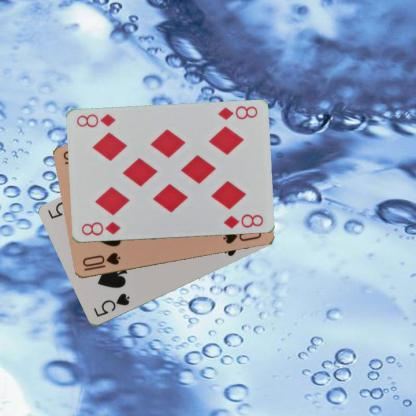10s: (80, 250, 122, 272)
5s: (91, 291, 131, 319)
8d: (215, 103, 258, 122), (78, 219, 122, 237)
